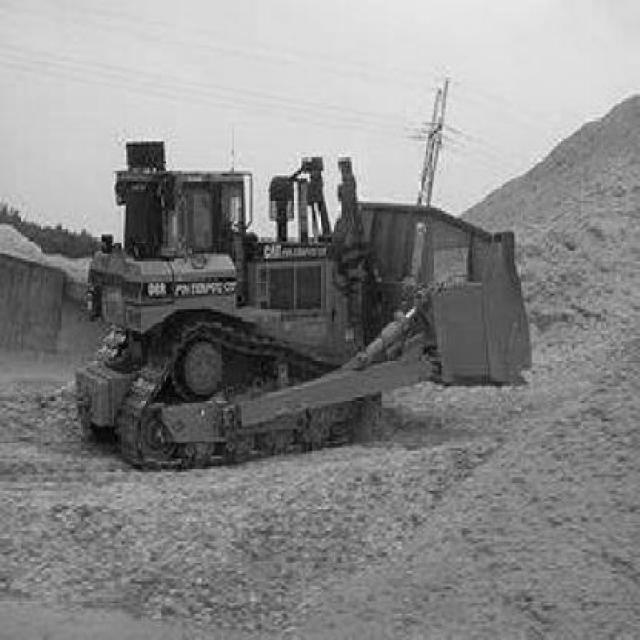Construction Equipment: (75, 142, 534, 474)
